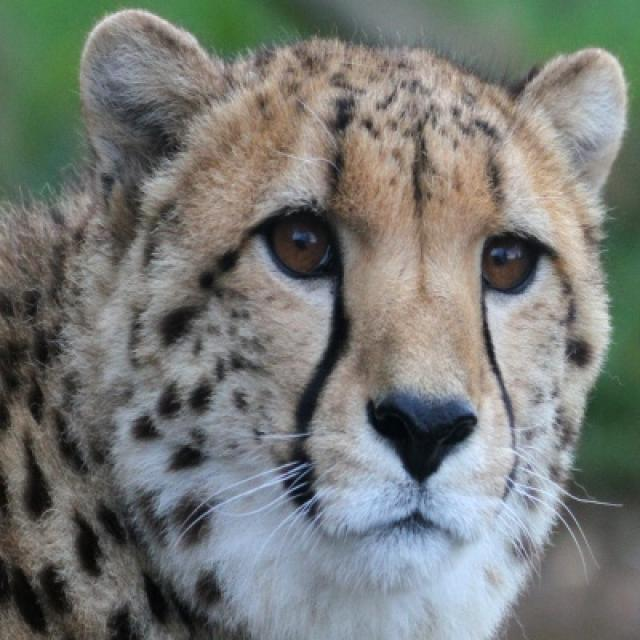Cheetah: (1, 13, 630, 638)
